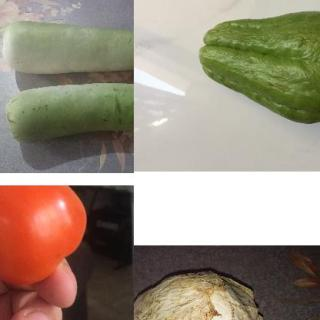Tomat: (1, 184, 89, 287)
